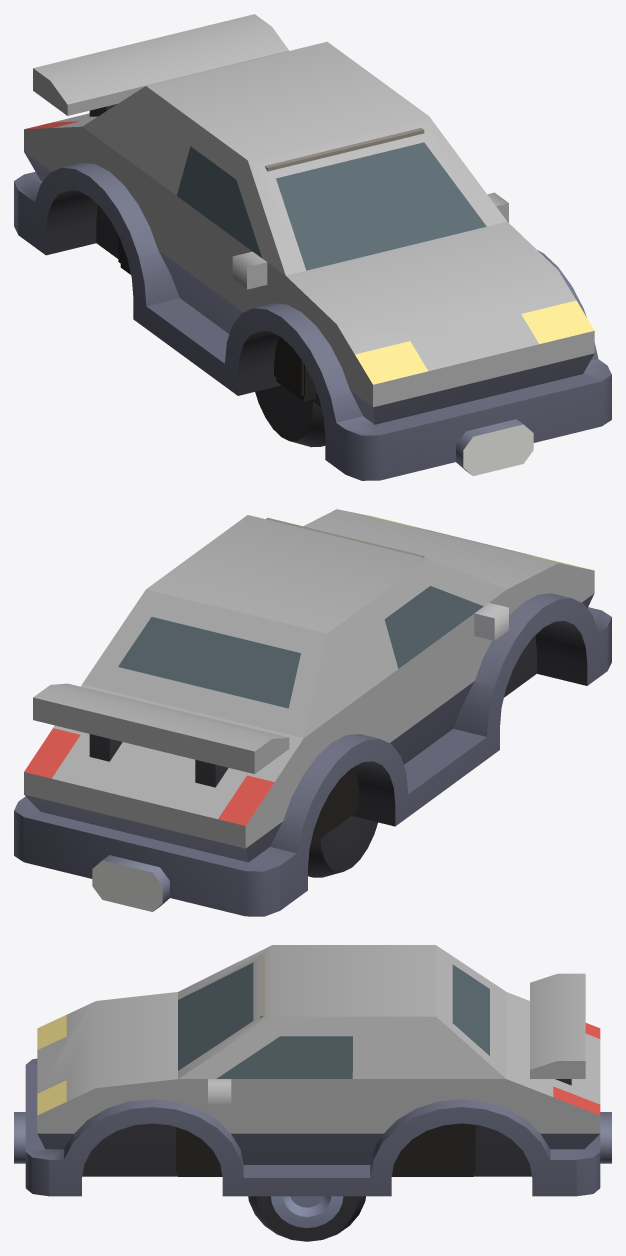
Rendered from admiralty-executive-v1.glb.
3 renders of one model, top to bottom at view 1: azimuth 30°, elevation 25°; view 2: azimuth 150°, elevation 25°; view 3: azimuth 270°, elevation 25°, orthographic. The views are drawn at different scales.
Parts seen in each view (by area): view 1: paint, trim, glass, headlamp, interior, wheel, plate; view 2: paint, trim, glass, taillamp, wheel, plate, interior; view 3: paint, trim, glass, interior, wheel, headlamp, taillamp.
Part boxes in pixels (x1,y1,x2,y2): paint: (24, 14, 594, 407); trim: (14, 104, 611, 480); glass: (176, 142, 486, 270); headlamp: (355, 300, 594, 384); interior: (118, 128, 424, 401); wheel: (255, 385, 325, 447); plate: (463, 424, 533, 476); paint: (24, 509, 594, 848); trim: (14, 593, 611, 916); glass: (118, 586, 483, 708); taillamp: (24, 728, 274, 825); wheel: (308, 816, 377, 877); plate: (92, 860, 162, 911); interior: (266, 517, 424, 845); paint: (37, 945, 600, 1133); trim: (14, 1058, 611, 1196); glass: (178, 963, 489, 1078); interior: (176, 954, 475, 1176); wheel: (248, 1196, 365, 1241); headlamp: (37, 1015, 66, 1115); taillamp: (553, 1023, 600, 1115).
Bounding box in the file's own units: 1.82 × 2.1 × 4.46.
8 materials, 2 textured.
